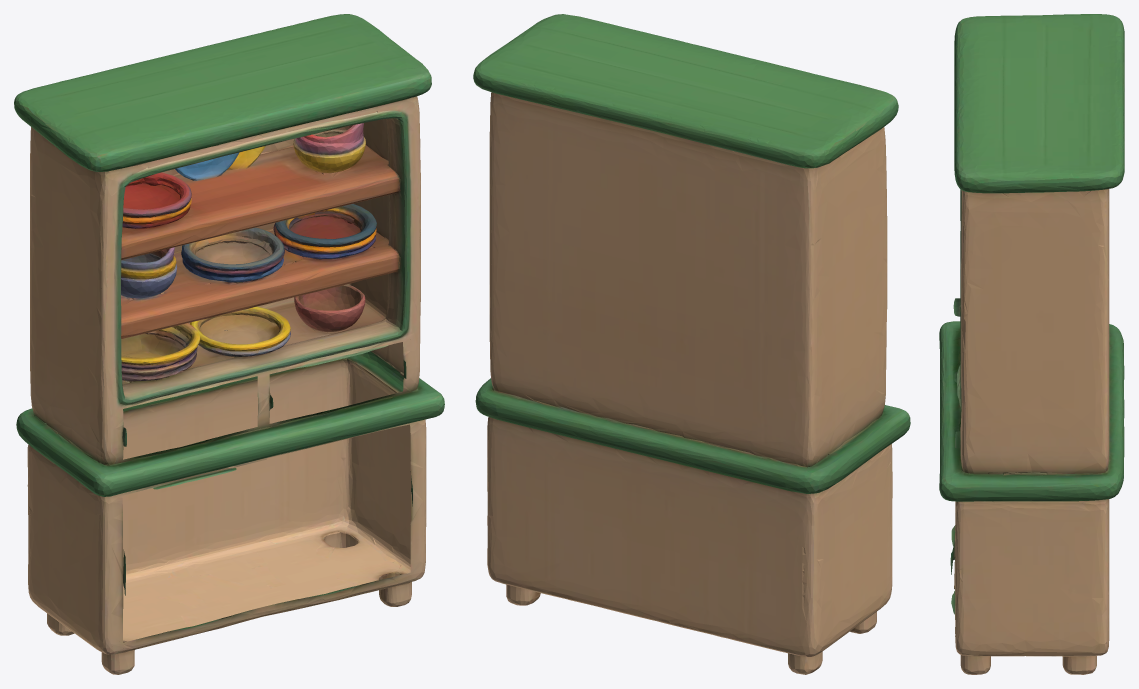
The model's file is body.glb.
The picture shows the model from 3 angles, left to right: view 1: azimuth 30°, elevation 25°; view 2: azimuth 150°, elevation 25°; view 3: azimuth 270°, elevation 25°; orthographic projection. The views are drawn at different scales.
Parts seen in each view (by area): view 1: source_surface_0; view 2: source_surface_0; view 3: source_surface_0.
Part boxes in pixels (<box>): source_surface_0: <box>14,14,444,674</box>; source_surface_0: <box>473,14,910,674</box>; source_surface_0: <box>939,14,1124,674</box>.
Size of the model in its own units: 0.6208 by 0.9 by 0.2947.
1 material, 1 textured.
